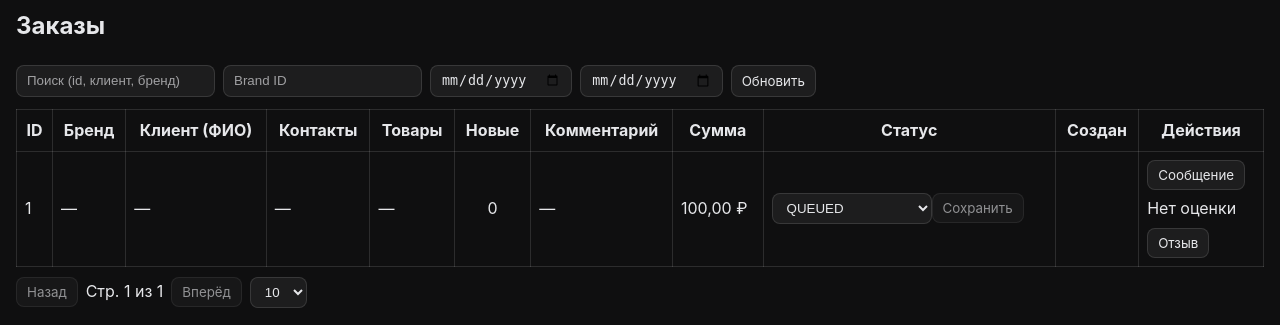
Test: AdminOrdersView role permissions › enables Save button for CASHIER
The width and height of the screenshot is (1280, 325).
Expected: the button "Сохранить" is shown, [932,193,1024,223]
// выберем статус PREPARING (он есть в статусах для QUEUED)
Select "PREPARING" in the dropdown next to "100,00 ₽" at (852,209), box [772,193,932,224]
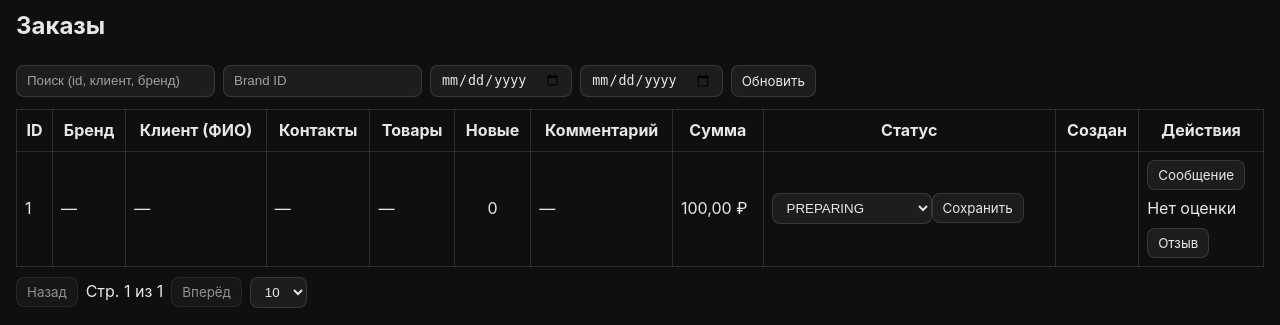
Expected: the button "Сохранить" is enabled, [932,193,1024,223]
